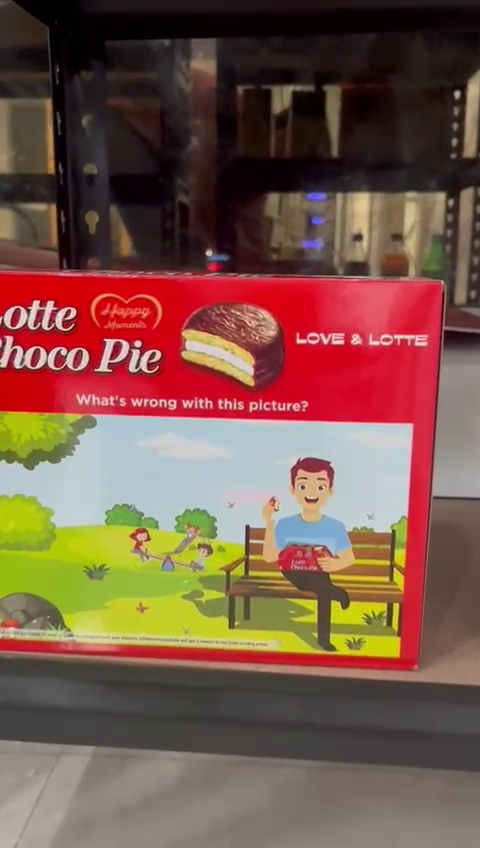Lotte Chocopie: (0, 267, 426, 672)
